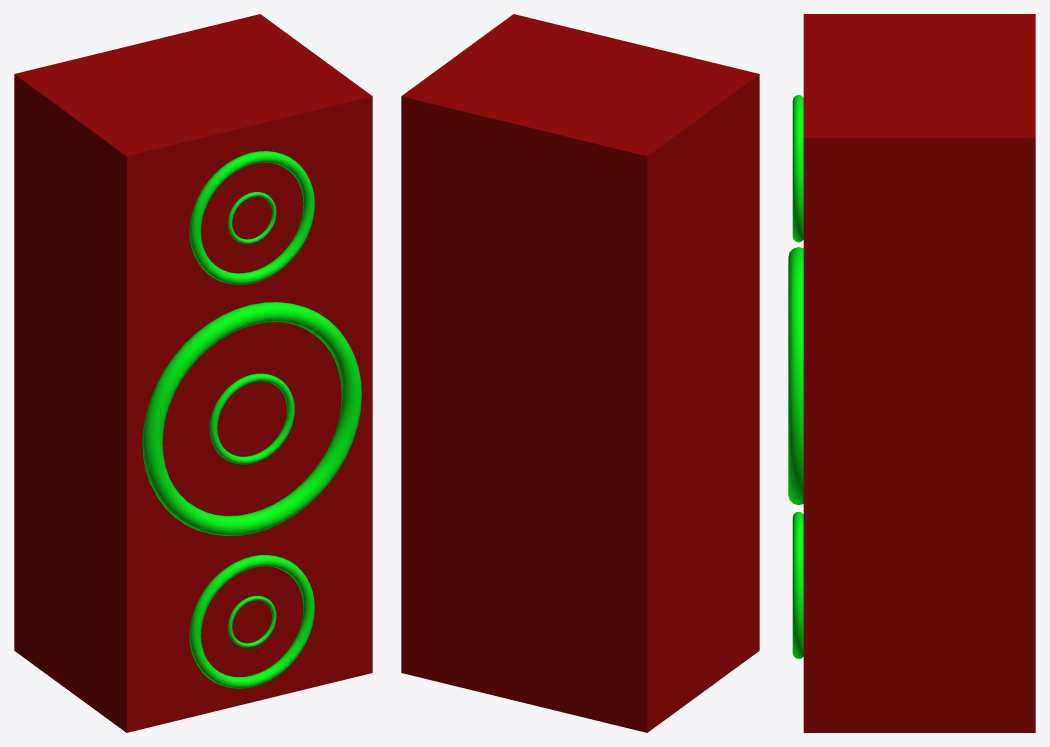
File: SM_BigBOX.FBX
3 views of the same model, side by side, from view 1: azimuth 30°, elevation 25°; view 2: azimuth 150°, elevation 25°; view 3: azimuth 270°, elevation 25° (orthographic). The views are drawn at different scales.
Visible parts, largest first — view 1: Box005, BigCircles, SmallCircles; view 2: Box005; view 3: Box005, BigCircles.
Boxes of the visible parts, left/top/right/bottom form: Box005: left=14, top=14, right=372, bottom=732; BigCircles: left=142, top=151, right=361, bottom=688; SmallCircles: left=209, top=192, right=294, bottom=647; Box005: left=401, top=14, right=759, bottom=732; Box005: left=803, top=14, right=1035, bottom=732; BigCircles: left=788, top=95, right=803, bottom=658.
Bounding box in the file's own units: 34.04 × 76.22 × 28.74.
